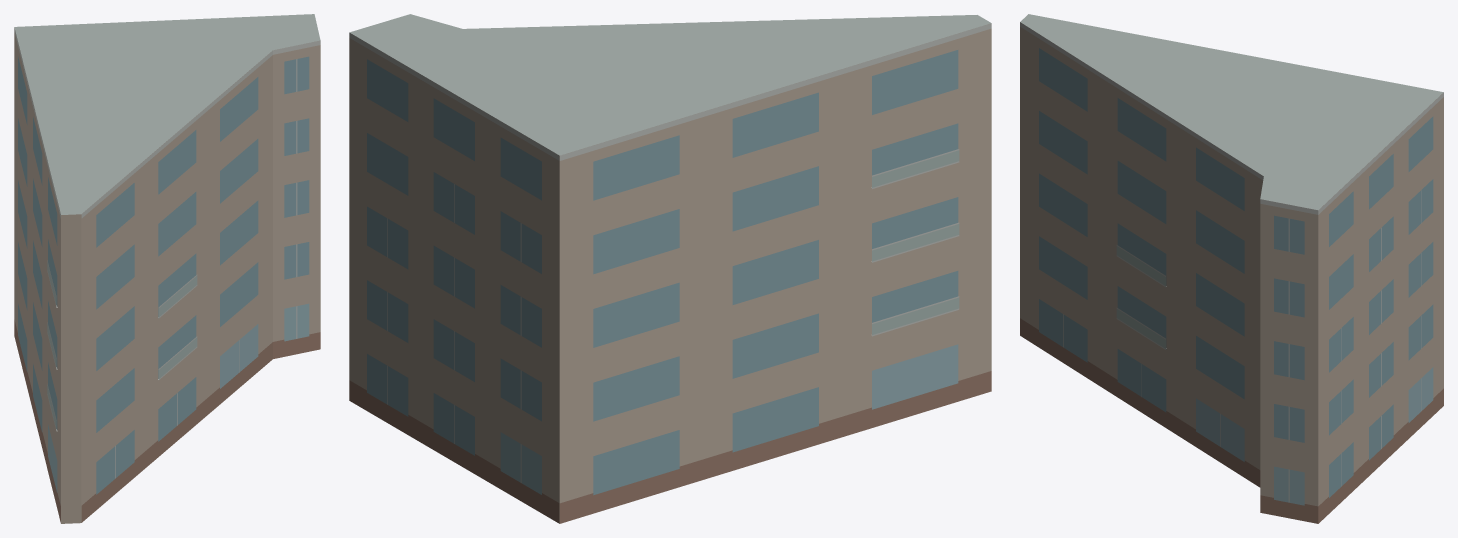
File: survey-upis-33032072.glb
3 views of the same model, side by side, from view 1: azimuth 30°, elevation 25°; view 2: azimuth 150°, elevation 25°; view 3: azimuth 270°, elevation 25° (orthographic). The views are drawn at different scales.
Visible parts, largest first — view 1: survey-upis-33032072.tmp; view 2: survey-upis-33032072.tmp; view 3: survey-upis-33032072.tmp.
Part boxes in pixels (x1,y1,x2,y2): survey-upis-33032072.tmp: (14, 14, 320, 523); survey-upis-33032072.tmp: (349, 14, 991, 523); survey-upis-33032072.tmp: (1020, 14, 1443, 523).
Bounding box in the file's own units: 22.29 × 16.6 × 20.34.
